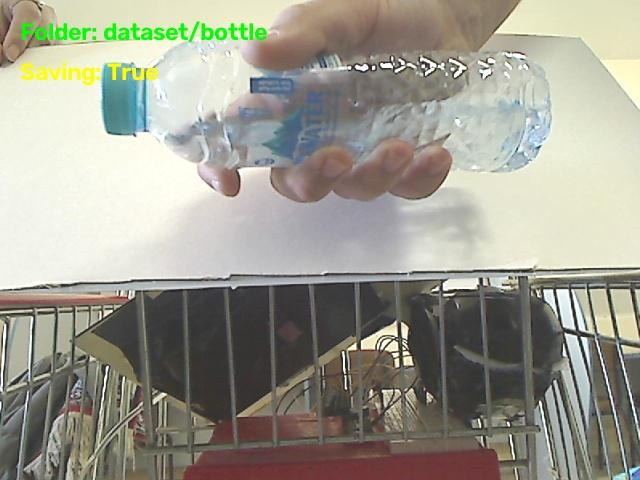Bottle: (100, 36, 550, 171)
